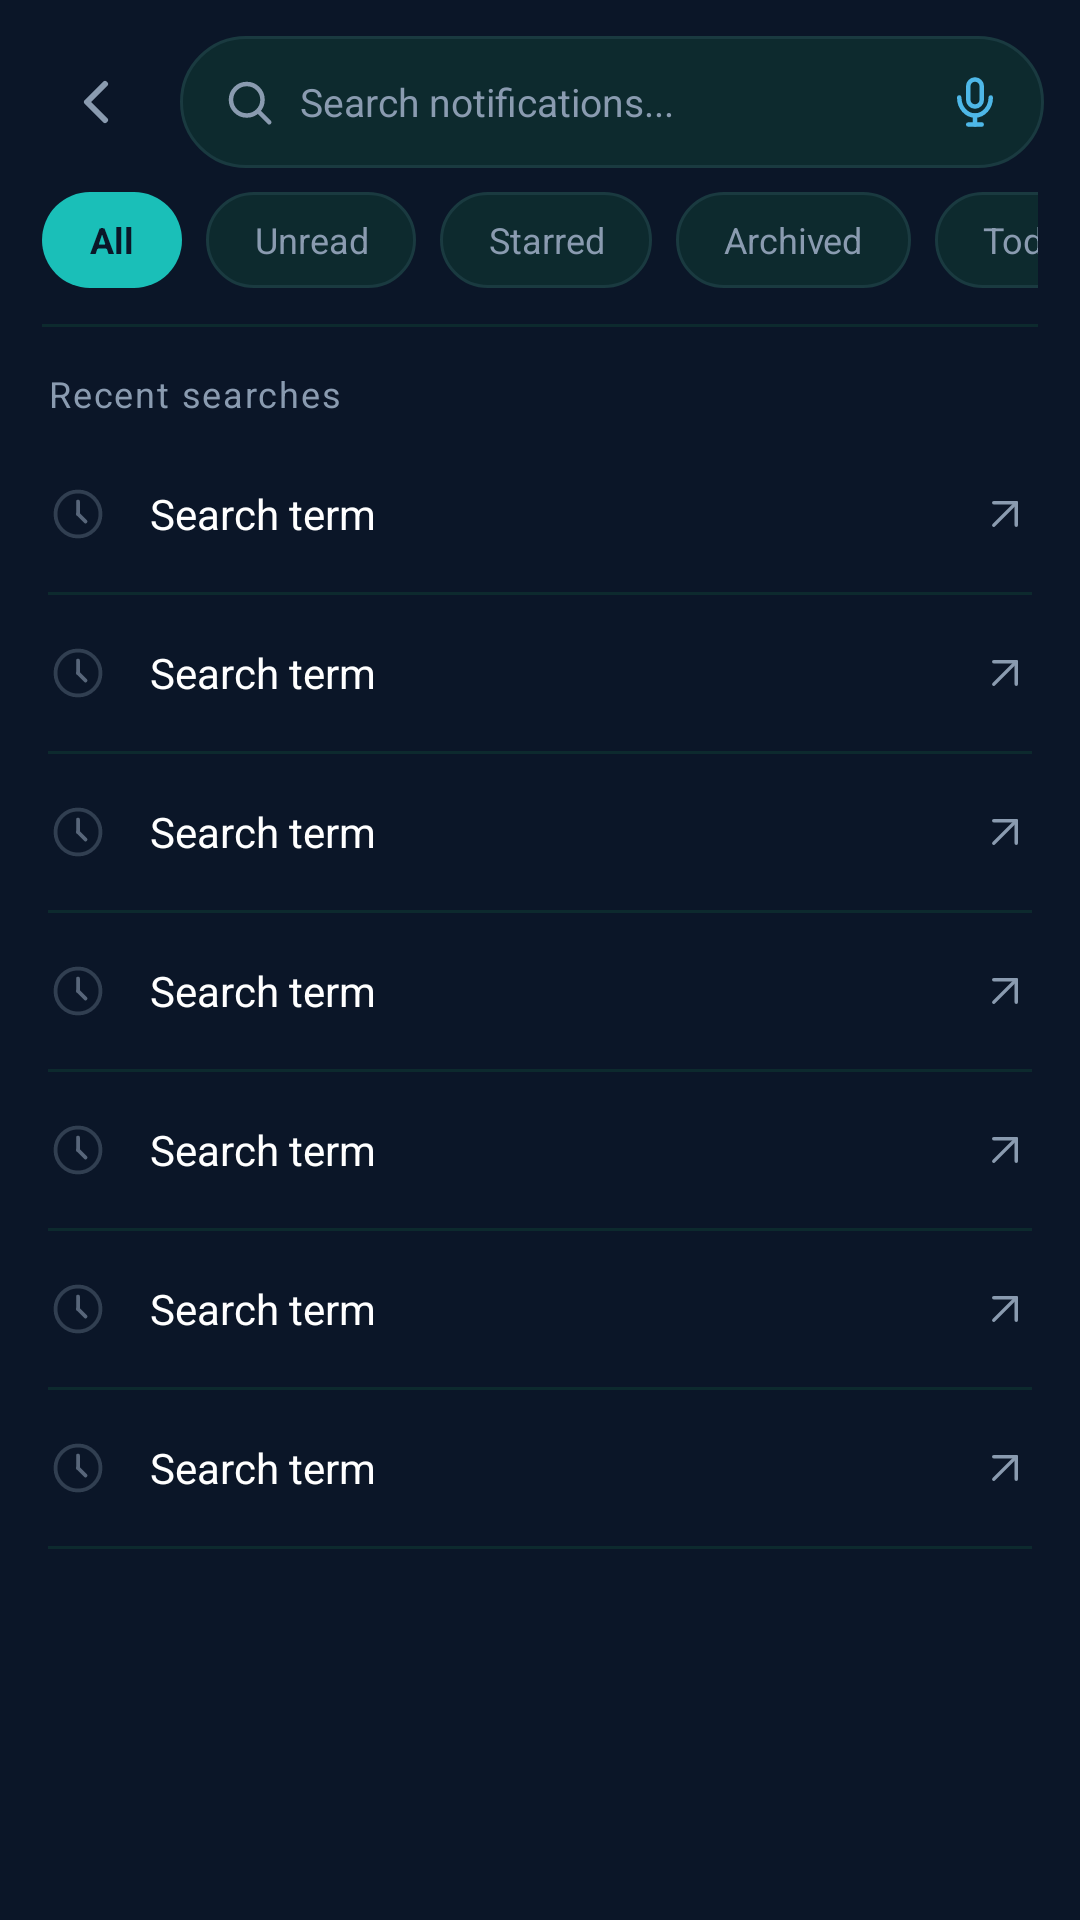

Point at icon controls on the screen. Image size 1080×1920, points as [x,y].
Back: [96,102]
Open: [1005,514], [1005,673], [1005,832], [1005,991], [1005,1150], [1005,1309], [1005,1468]
Voice search: [975,102]
